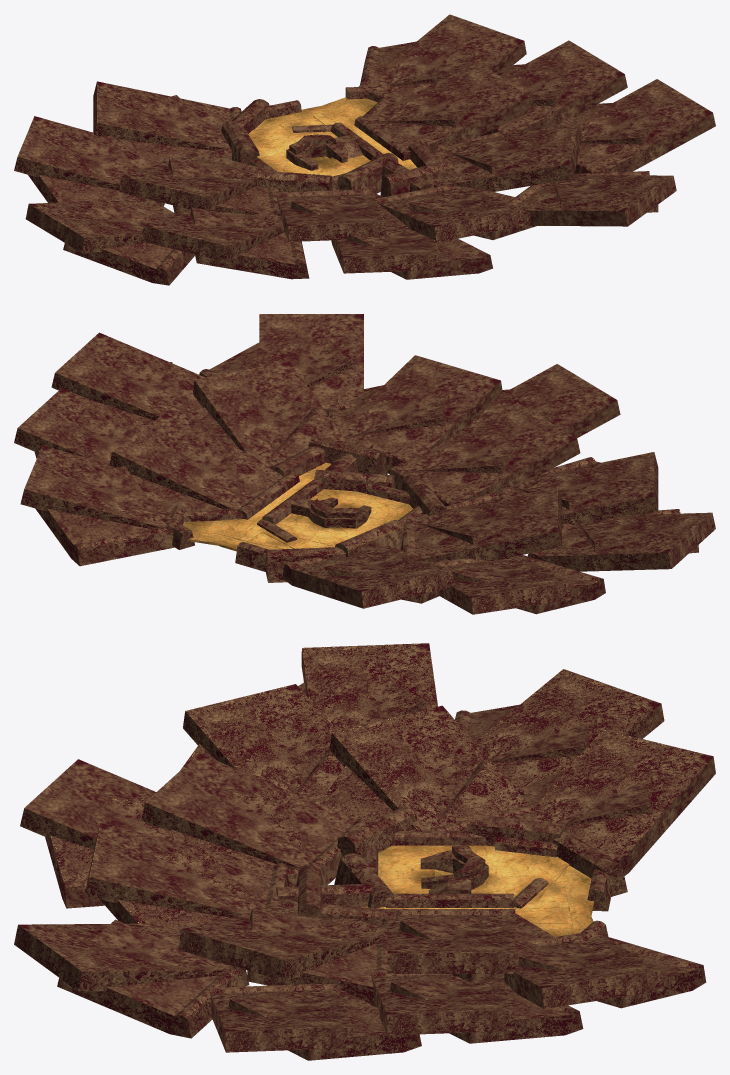
Rendered from vale-of-infantry.glb.
3 renders of one model, top to bottom at view 1: azimuth 30°, elevation 25°; view 2: azimuth 150°, elevation 25°; view 3: azimuth 270°, elevation 25°, orthographic. The views are drawn at different scales.
Visible parts, largest first — view 1: ValeBasis-col; view 2: ValeBasis-col; view 3: ValeBasis-col.
Part boxes in pixels (bbox=[...]): ValeBasis-col: bbox=[14, 14, 715, 285]; ValeBasis-col: bbox=[14, 314, 715, 614]; ValeBasis-col: bbox=[14, 643, 715, 1060].
Size of the model in its own units: 690 by 53.42 by 522.
Materials: 1 (1 with a texture image).
